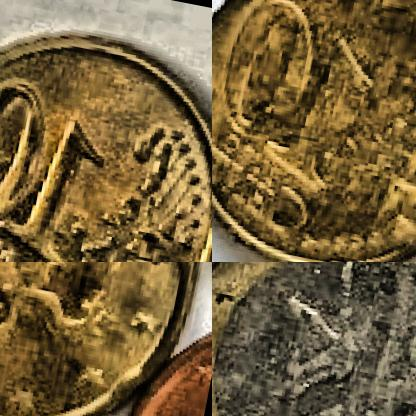coin: (0, 3, 211, 261), (212, 0, 415, 261), (0, 262, 211, 415), (212, 262, 415, 415)
